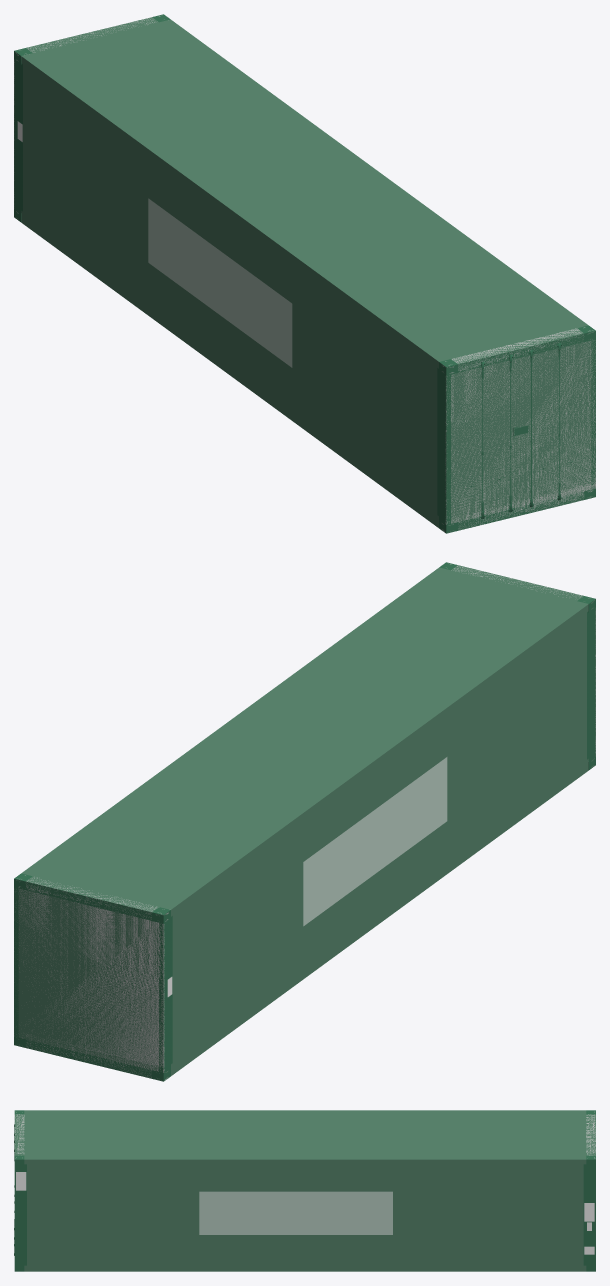
Rendered from containers_40_okudai.dae.
3 renders of one model, top to bottom at view 1: azimuth 30°, elevation 25°; view 2: azimuth 150°, elevation 25°; view 3: azimuth 270°, elevation 25°, orthographic. The views are drawn at different scales.
Parts seen in each view (by area): view 1: containers_40_okudai_a40, Colmesh_containers_40_okudai-1, containers_40_okudai_a1500, containers_40_okudai_a150, containers_40_okudai_a600; view 2: containers_40_okudai_a40, Colmesh_containers_40_okudai-1, containers_40_okudai_a150, containers_40_okudai_a1500, containers_40_okudai_a600; view 3: containers_40_okudai_a40, containers_40_okudai_a1500, Colmesh_containers_40_okudai-1, containers_40_okudai_a600, containers_40_okudai_a150.
Boxes of the visible parts, box(x1,y1,x2,y2) form: containers_40_okudai_a40: box(14, 15, 595, 532); Colmesh_containers_40_okudai-1: box(14, 16, 595, 531); containers_40_okudai_a1500: box(14, 14, 595, 533); containers_40_okudai_a150: box(446, 331, 595, 533); containers_40_okudai_a600: box(14, 16, 595, 532); containers_40_okudai_a40: box(14, 563, 595, 1080); Colmesh_containers_40_okudai-1: box(16, 564, 595, 1080); containers_40_okudai_a150: box(14, 879, 163, 1081); containers_40_okudai_a1500: box(14, 562, 595, 1081); containers_40_okudai_a600: box(14, 564, 595, 1080); containers_40_okudai_a40: box(14, 1110, 595, 1271); containers_40_okudai_a1500: box(14, 1110, 595, 1271); Colmesh_containers_40_okudai-1: box(15, 1114, 595, 1158); containers_40_okudai_a600: box(14, 1111, 595, 1271); containers_40_okudai_a150: box(14, 1159, 595, 1271).
Bounding box in the file's own units: 2.52 × 12.21 × 2.59.
